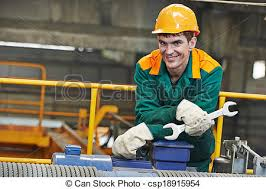Person_wearing_helmet: (148, 1, 200, 49)
